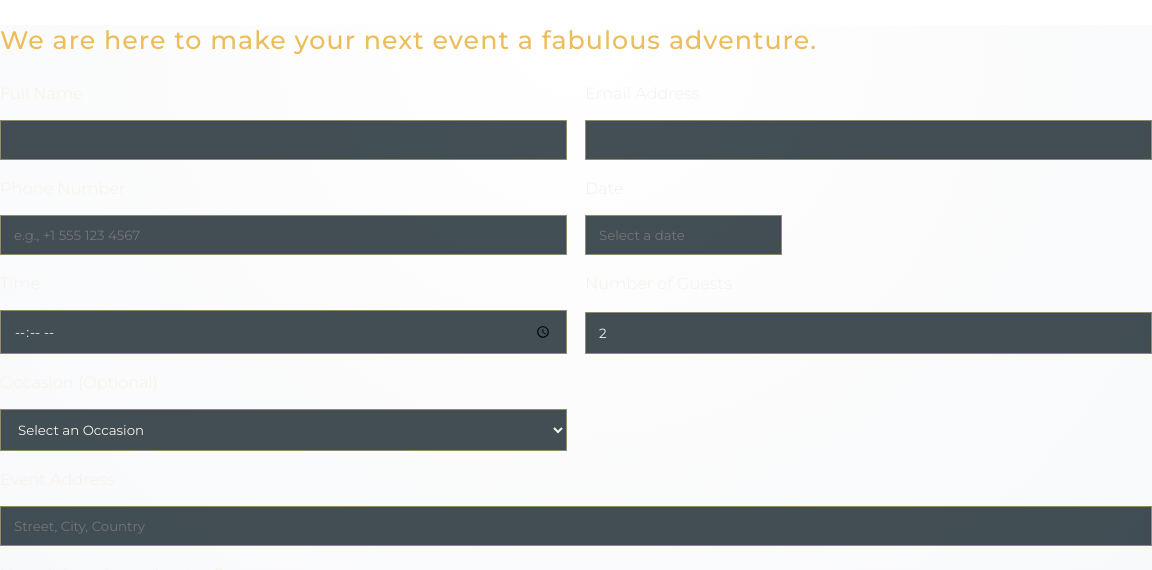
Test: BookingForm › shows validation errors and does not submit when no date is selected
Type "amina@example.test" into the field labelled "Email Address" at [868, 140], box [585,120,1151,160]
(page scrolled)
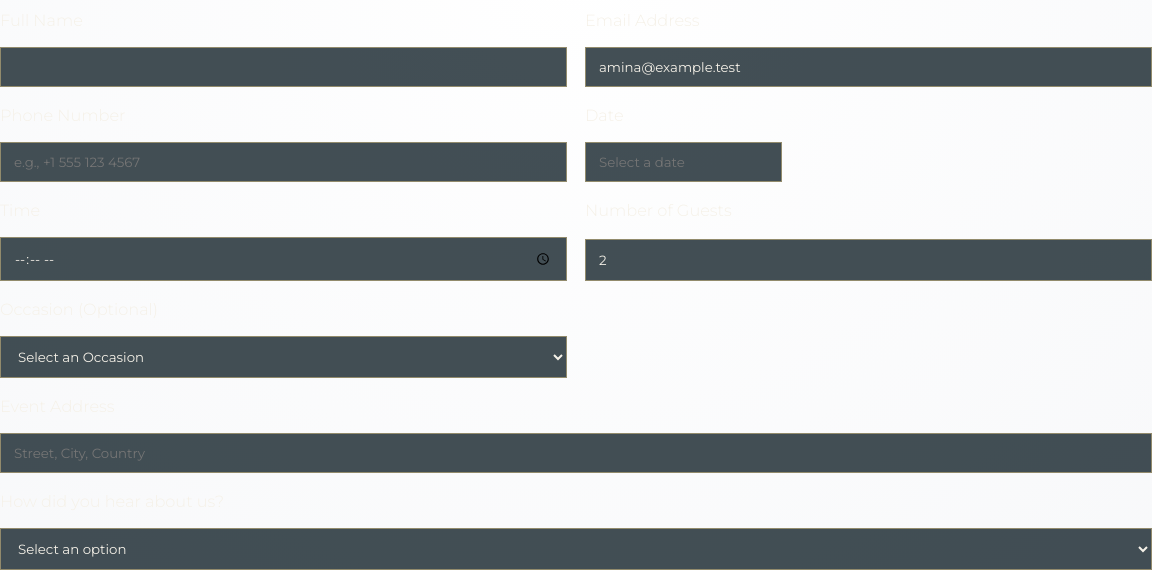
Submit the form named "Reserve"
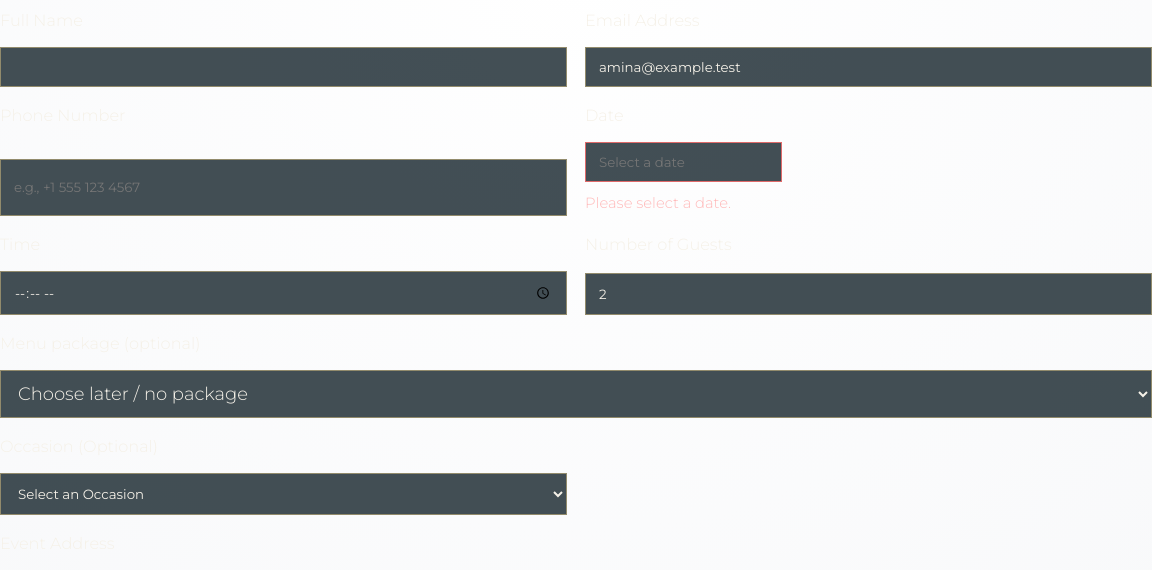
Result: the text "Please select a date." is shown at [585,194,731,212]
